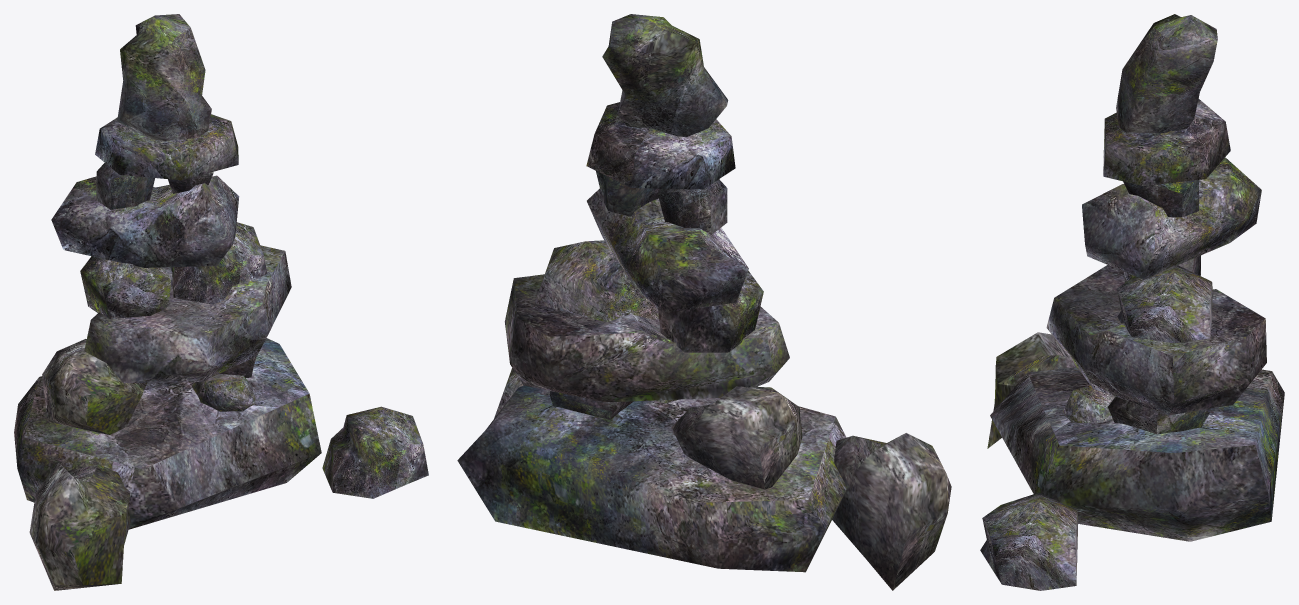
The model's file is cairn_02_01_re.glb.
3 views of the same model, side by side, from view 1: azimuth 30°, elevation 25°; view 2: azimuth 150°, elevation 25°; view 3: azimuth 270°, elevation 25° (orthographic). The views are drawn at different scales.
Visible parts, largest first — view 1: cairn_02_01; view 2: cairn_02_01; view 3: cairn_02_01.
Part boxes in pixels (box(x1,y1,x2,y2)): cairn_02_01: box(14, 14, 428, 590); cairn_02_01: box(457, 14, 951, 590); cairn_02_01: box(980, 14, 1284, 590).
Size of the model in its own units: 18.07 by 22.17 by 11.51.
Materials: 1 (1 with a texture image).
